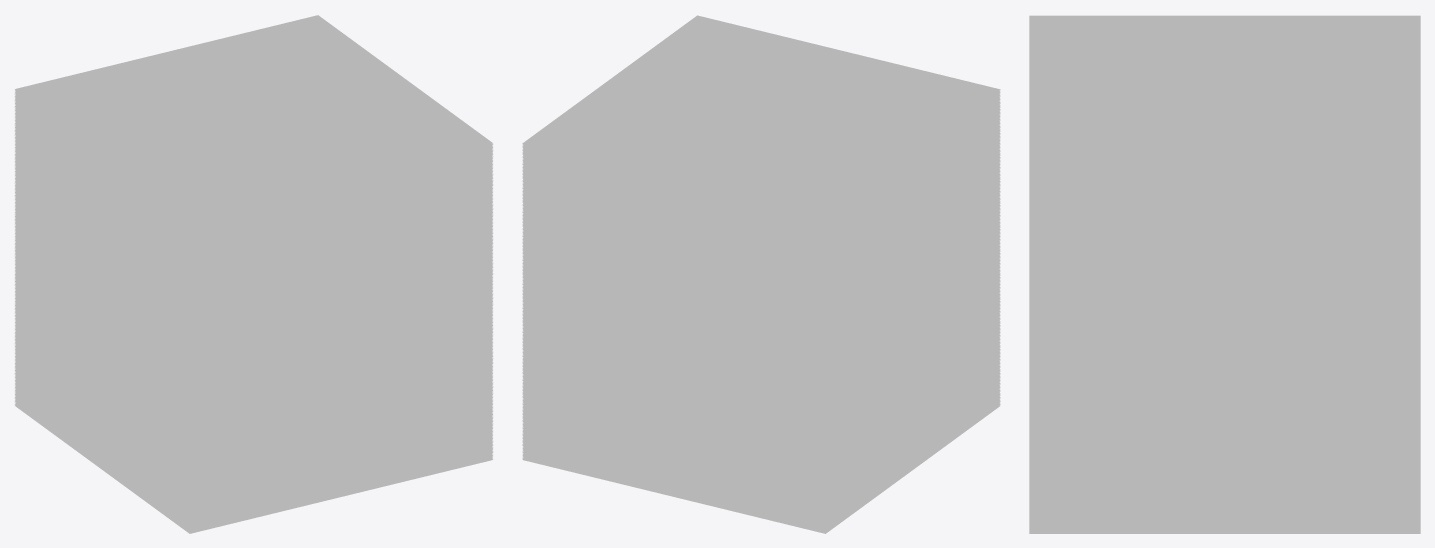
Rendered from cloud.glb.
3 renders of one model, left to right at view 1: azimuth 30°, elevation 25°; view 2: azimuth 150°, elevation 25°; view 3: azimuth 270°, elevation 25°, orthographic. The views are drawn at different scales.
Visible parts, largest first — view 1: mesh_2; view 2: mesh_2; view 3: mesh_2.
Boxes of the visible parts, box(x1,y1,x2,y2) form: mesh_2: box(14, 15, 493, 533); mesh_2: box(522, 15, 1000, 533); mesh_2: box(1029, 15, 1420, 533).
Size of the model in its own units: 1 by 1 by 1.
Materials: 3 (3 with a texture image).
